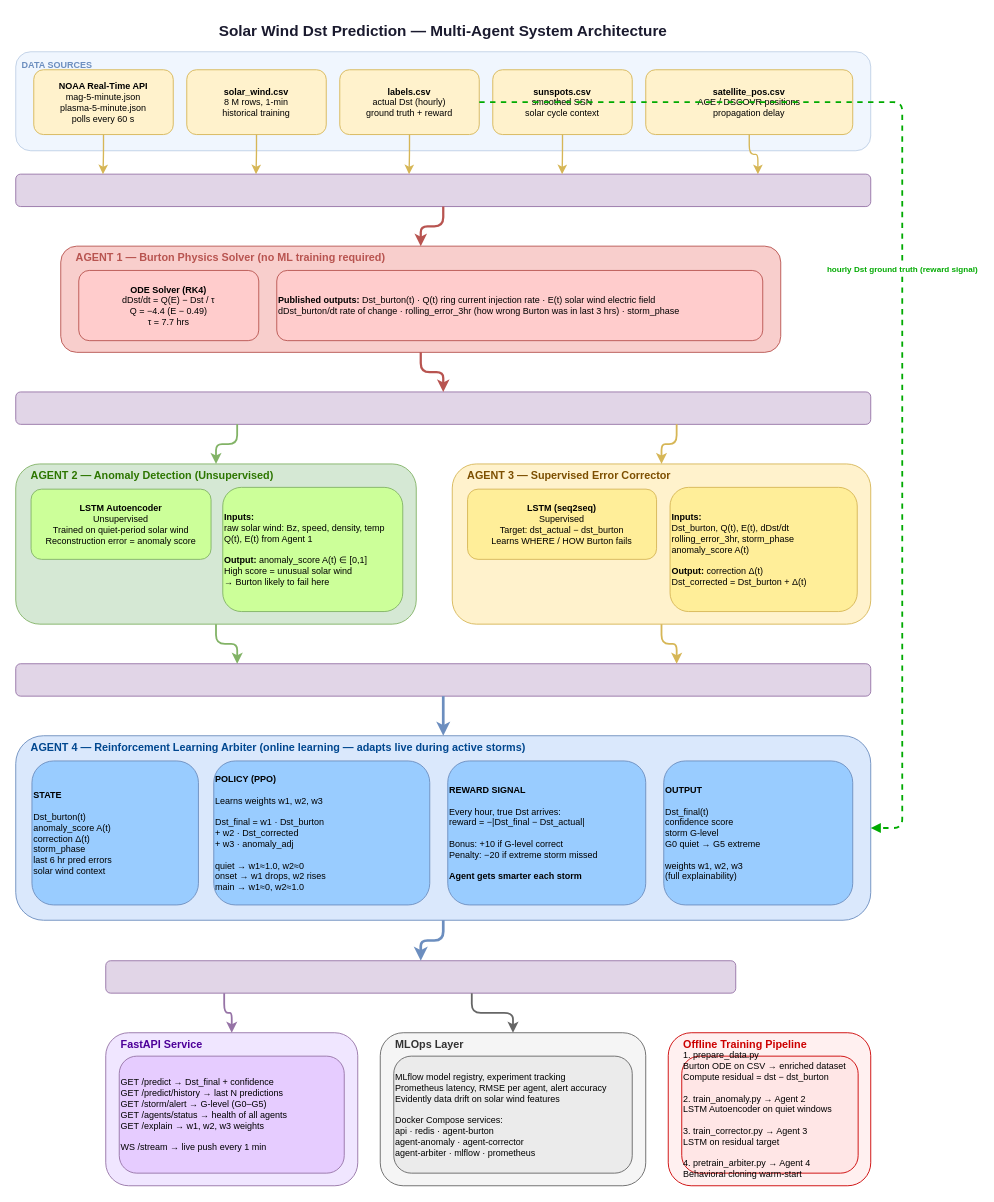
Some shapes in this 994 by 1202 pixel diagram are drawn without their labels. The shapes that lost their labels are listed below. From the top down, each one's centre as x and y in pixels, then its label:
point (443, 190): EVENT BUS (Redis Pub/Sub) · topic: solar_wind.raw
point (443, 407): EVENT BUS (Redis Pub/Sub) · topic: burton.output
point (443, 679): EVENT BUS (Redis Pub/Sub) · topics: anomaly.output | ml.output
point (420, 976): EVENT BUS (Redis Pub/Sub) · topics: prediction.final | alerts.storm
